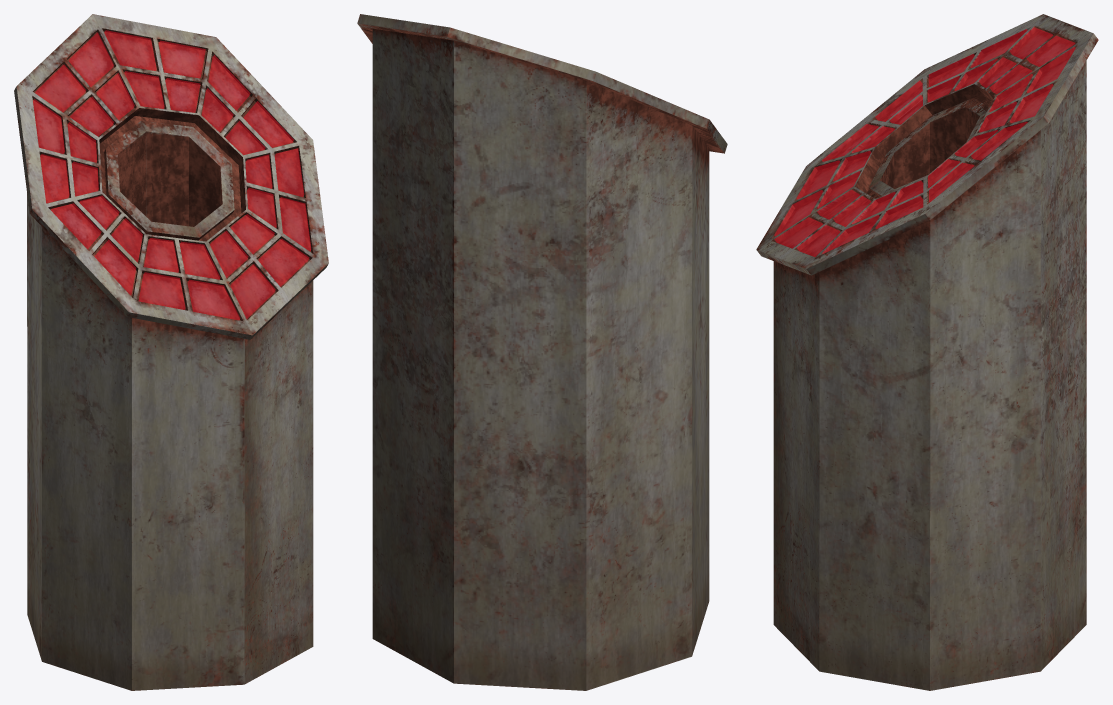
The model's file is Tribute Schute.fbx.
3 views of the same model, side by side, from view 1: azimuth 30°, elevation 25°; view 2: azimuth 150°, elevation 25°; view 3: azimuth 270°, elevation 25° (orthographic). The views are drawn at different scales.
Parts seen in each view (by area): view 1: Cylinder, Buttons; view 2: Cylinder; view 3: Cylinder, Buttons.
Part boxes in pixels (x1,y1,x2,y2): Cylinder: (14, 14, 328, 690); Buttons: (33, 30, 311, 319); Cylinder: (357, 14, 727, 690); Cylinder: (756, 14, 1098, 690); Buttons: (774, 27, 1075, 256).
Bounding box in the file's own units: 61.86 × 118 × 61.79.
2 materials, 1 textured.
